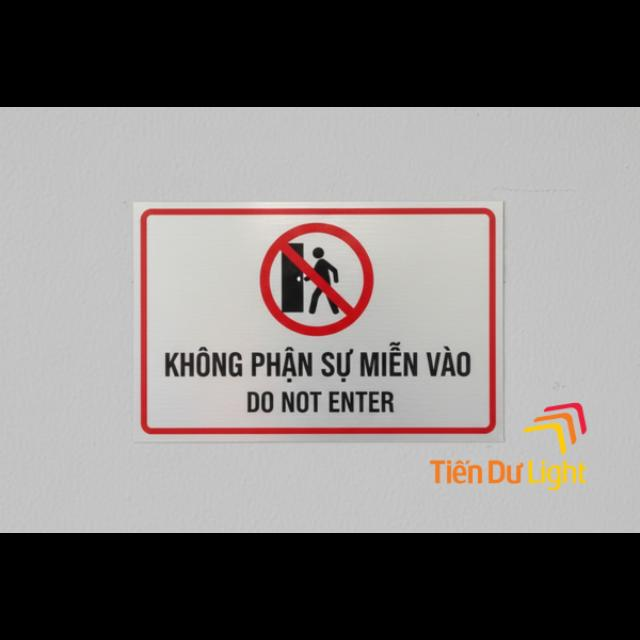no_entry: (131, 202, 502, 440)
